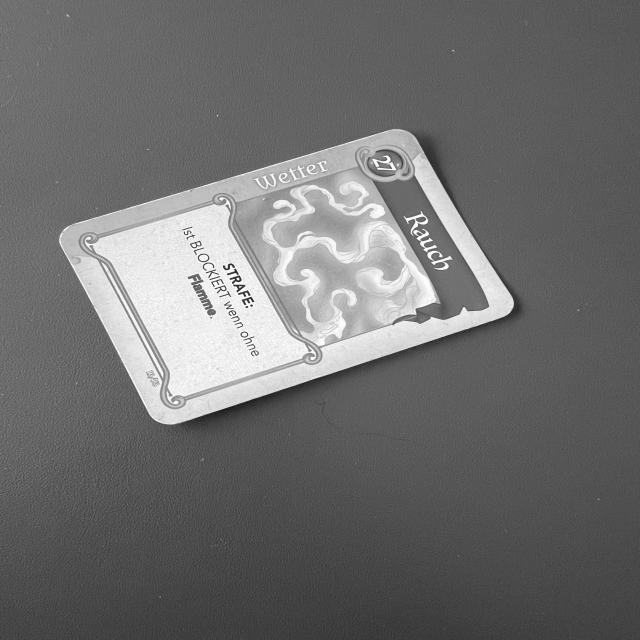Smoke: (47, 120, 530, 431)
